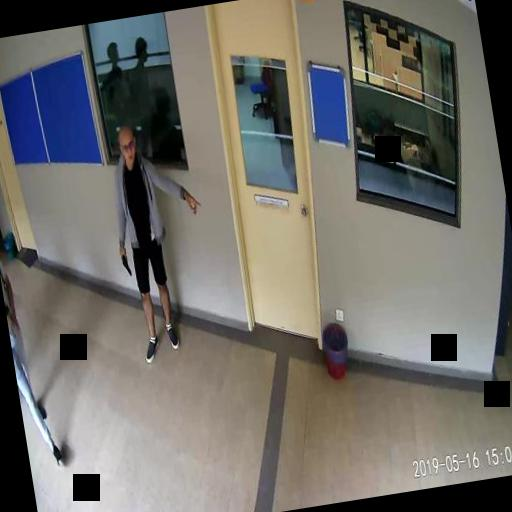Handgun: (117, 248, 130, 276)
